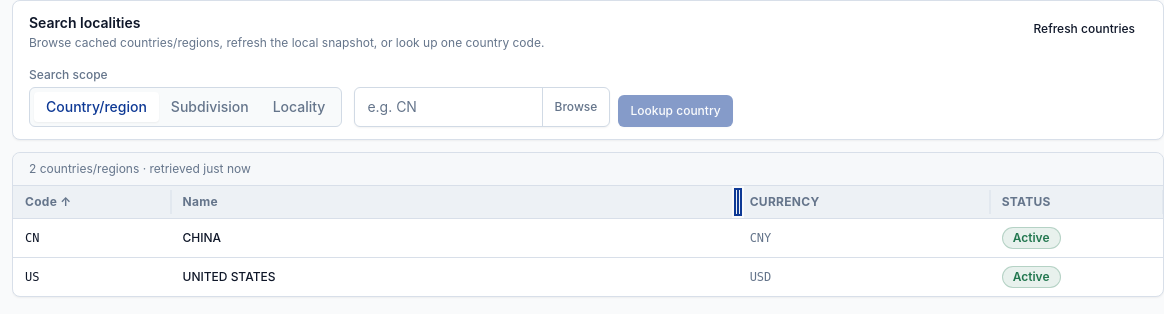
Test: LocalitiesView › loads and displays cached countries, then refreshes the snapshot on demand
expect the text "2 countries/regions · retrieved just now" is shown: met, box [13,153,1163,186]
expect the button "CHINA" is shown: met, box [182,230,221,246]
Press Arrowleft
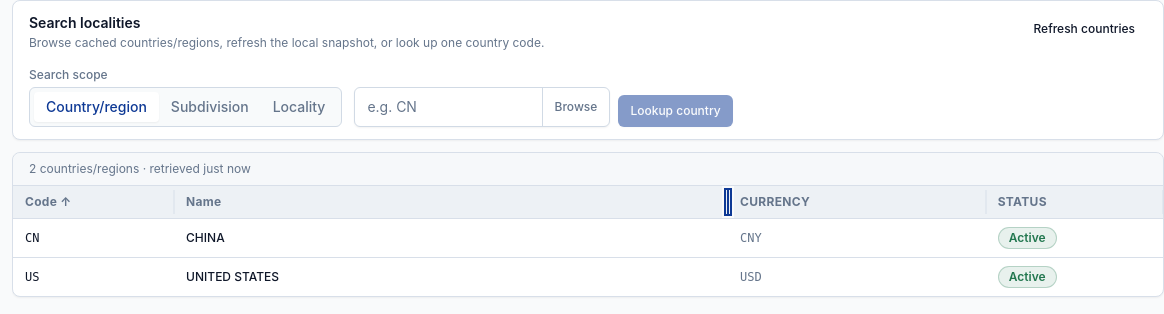
expect the element named "resize name column" has attribute aria-valuenow="344": met, box [722,186,734,218]
Click the button with aria-label "refresh countries/regions".
click(1084, 29)  # box [1022,13,1147,45]
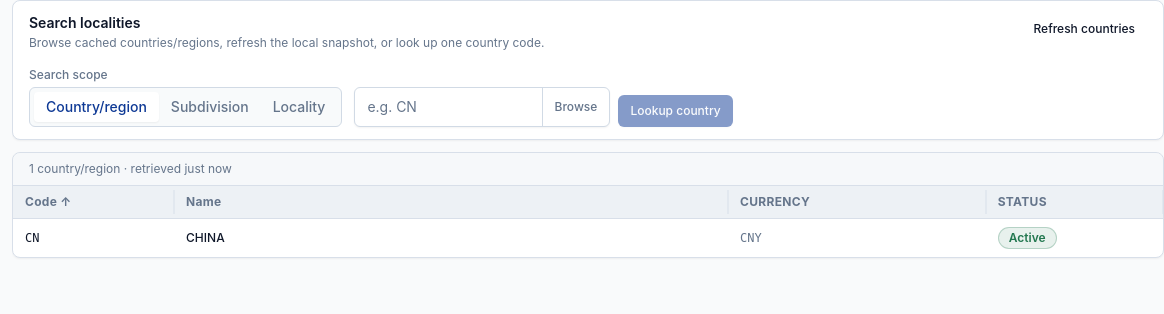
expect the text "1 country/region · retrieved just now" is shown: met, box [13,153,1163,186]
